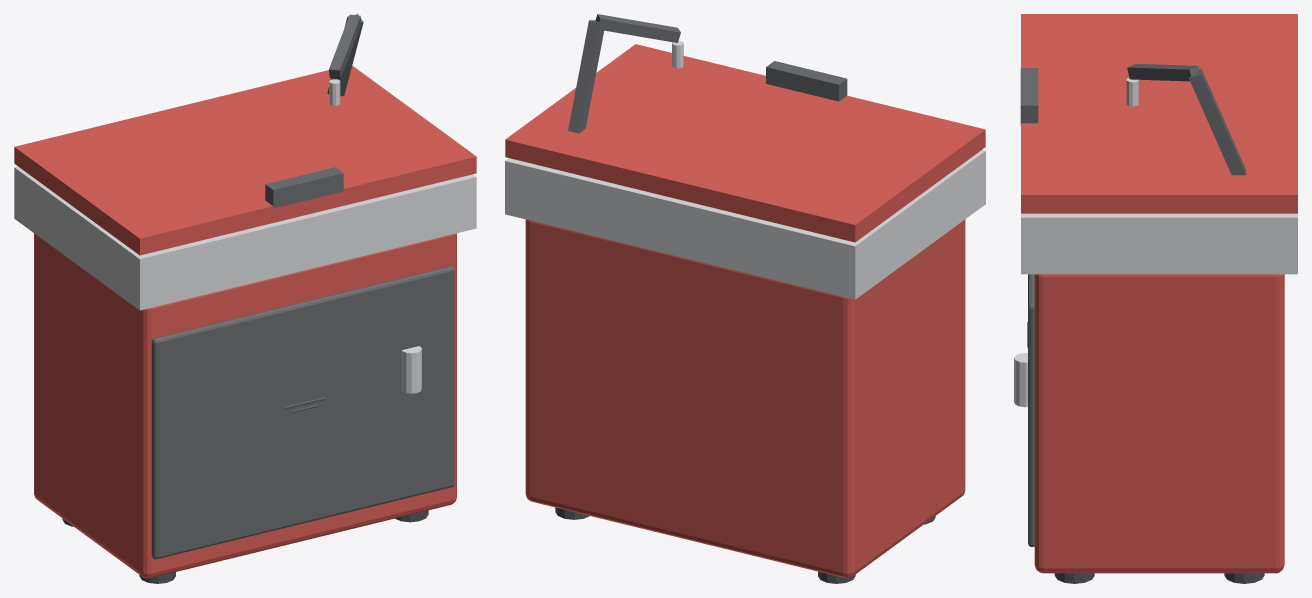
Rendered from car-repair-garage-and-mot-workshop-car-repair-garage-a-0b59b871__34022.glb.
3 views of the same model, side by side, from view 1: azimuth 30°, elevation 25°; view 2: azimuth 150°, elevation 25°; view 3: azimuth 270°, elevation 25° (orthographic). The views are drawn at different scales.
Parts seen in each view (by area): view 1: car-repair-garage-and-mot-workshop-parts-washer, washer-lid/red, washer-lid/charcoal; view 2: car-repair-garage-and-mot-workshop-parts-washer, washer-lid/red, washer-lid/charcoal; view 3: car-repair-garage-and-mot-workshop-parts-washer, washer-lid/red, washer-lid/charcoal.
Part boxes in pixels (<box>): car-repair-garage-and-mot-workshop-parts-washer: <box>14,14,476,583</box>; washer-lid/red: <box>14,66,476,255</box>; washer-lid/charcoal: <box>265,167,343,208</box>; car-repair-garage-and-mot-workshop-parts-washer: <box>505,14,985,583</box>; washer-lid/red: <box>505,44,985,242</box>; washer-lid/charcoal: <box>766,61,847,101</box>; car-repair-garage-and-mot-workshop-parts-washer: <box>1014,63,1297,583</box>; washer-lid/red: <box>1021,14,1297,213</box>; washer-lid/charcoal: <box>1020,68,1038,125</box>.
Size of the model in its own units: 0.96 by 1.25 by 0.6361.
